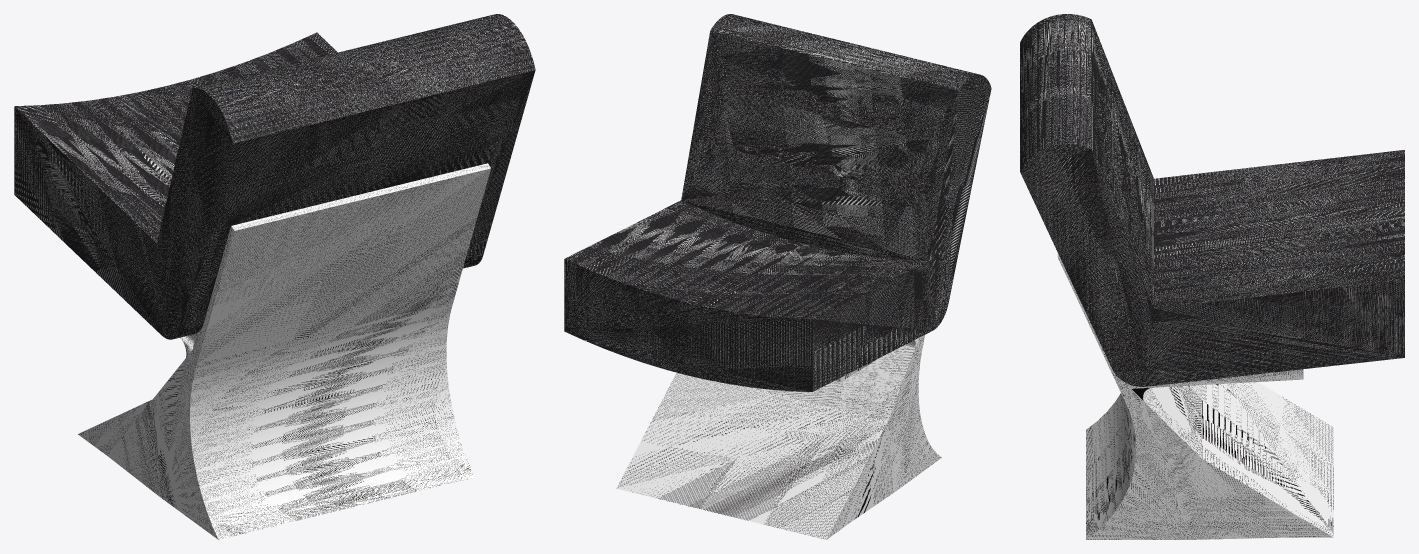
3 renders of one model, left to right at view 1: azimuth 30°, elevation 25°; view 2: azimuth 150°, elevation 25°; view 3: azimuth 270°, elevation 25°, orthographic. The views are drawn at different scales.
Visible parts, largest first — view 1: mesh19_mesh19-geometry; view 2: mesh19_mesh19-geometry; view 3: mesh19_mesh19-geometry.
Boxes of the visible parts, x1,y1,x2,y2 form: mesh19_mesh19-geometry: (14, 14, 535, 539); mesh19_mesh19-geometry: (564, 14, 991, 539); mesh19_mesh19-geometry: (1020, 14, 1404, 539).
Bounding box in the file's own units: 0.4622 × 0.6727 × 0.5778.
6 materials, 3 textured.
